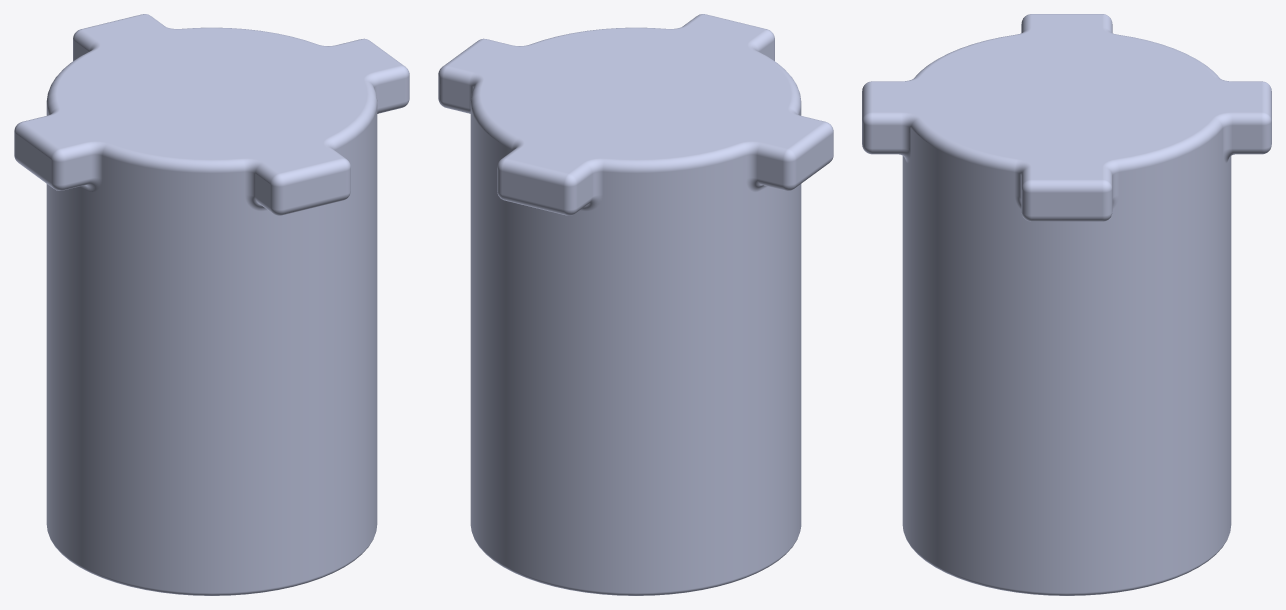
Rendered from Cup Holder bottom.gltf.
3 views of the same model, side by side, from view 1: azimuth 30°, elevation 25°; view 2: azimuth 150°, elevation 25°; view 3: azimuth 270°, elevation 25° (orthographic).
Visible parts, largest first — view 1: Cup Holder bottom; view 2: Cup Holder bottom; view 3: Cup Holder bottom.
Part boxes in pixels (bbox=[...]): Cup Holder bottom: bbox=[14, 14, 409, 595]; Cup Holder bottom: bbox=[438, 14, 833, 595]; Cup Holder bottom: bbox=[862, 14, 1271, 595].
Bounding box in the file's own units: 0.081 × 0.094 × 0.081.
